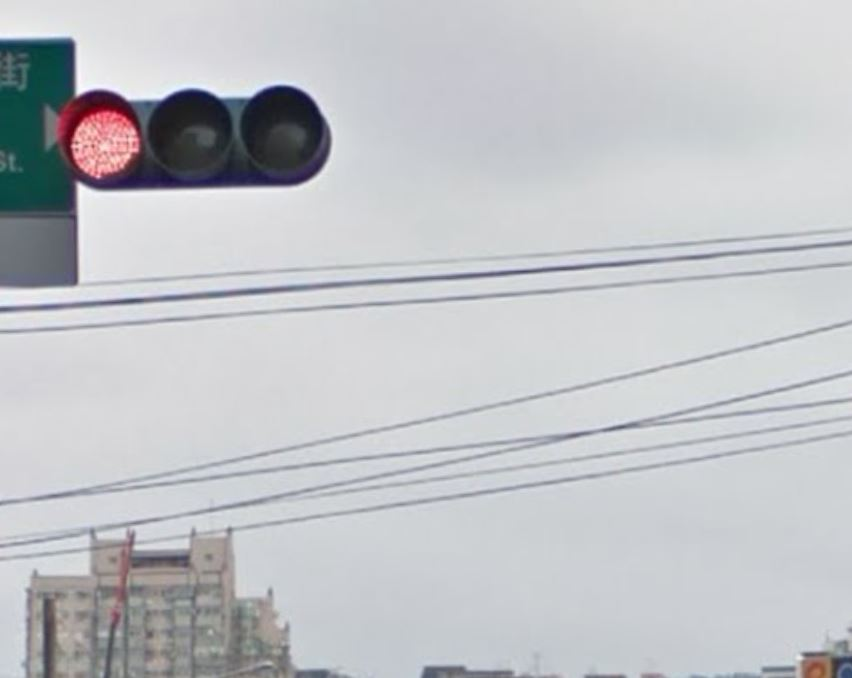Traffic_light_red: (56, 89, 333, 187)
